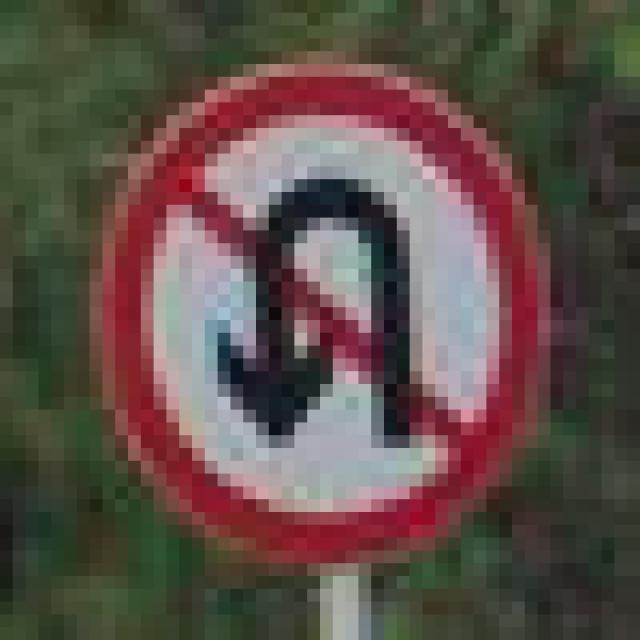u turn prohibited: (75, 46, 554, 576)
